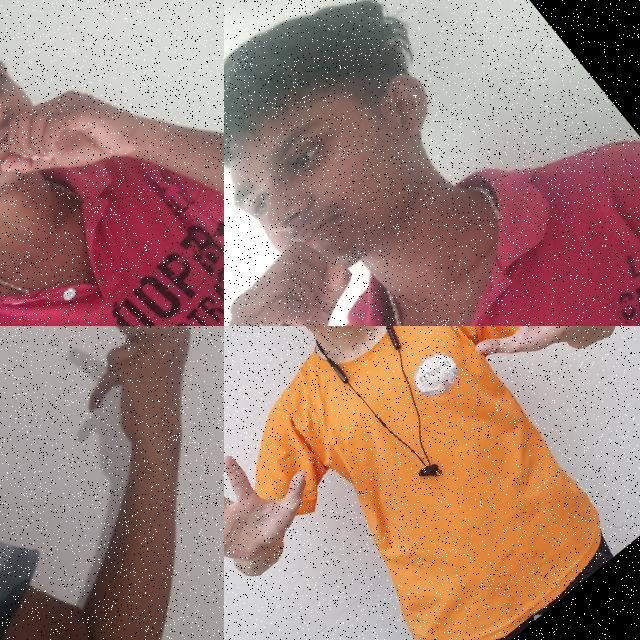Fist Mouth: (224, 0, 540, 326), (0, 0, 159, 307)
Middle Finger: (18, 326, 224, 498)
Moutza: (224, 406, 341, 617), (428, 326, 640, 403)
